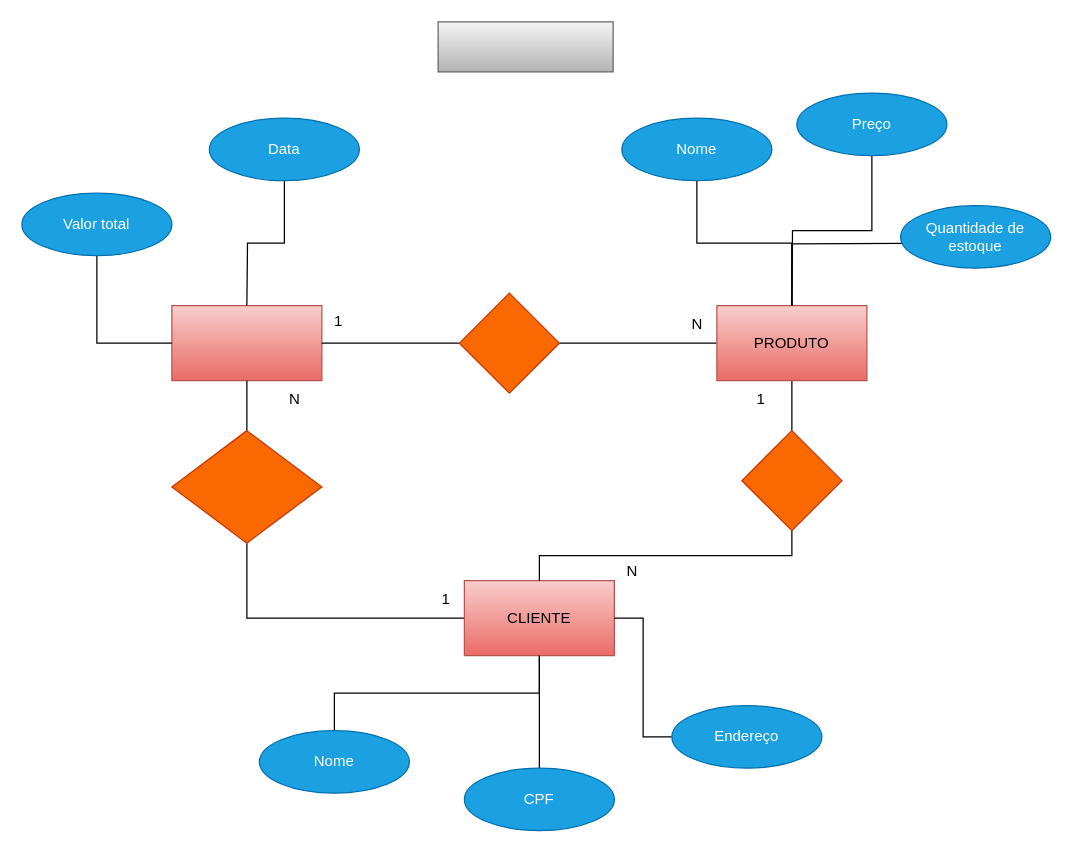
Image size: 1073x853. Some labels were removed from this diagram. The box of each missing label's shape, as (x1, y1, x2, y2) in pixels:
COMPRAS: (171, 304, 322, 381)
Contem: (458, 292, 559, 393)
Loja Online: (437, 21, 613, 72)
Possui: (741, 429, 842, 531)
Realiza: (171, 429, 322, 543)
